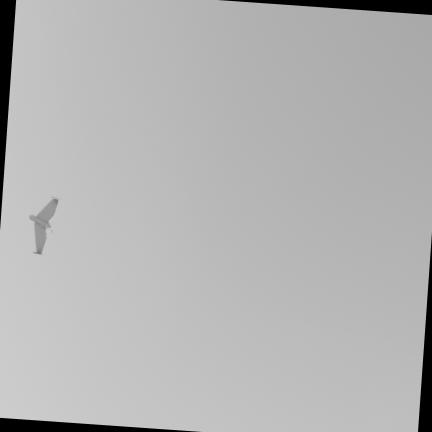Shahed: (28, 196, 62, 255)
